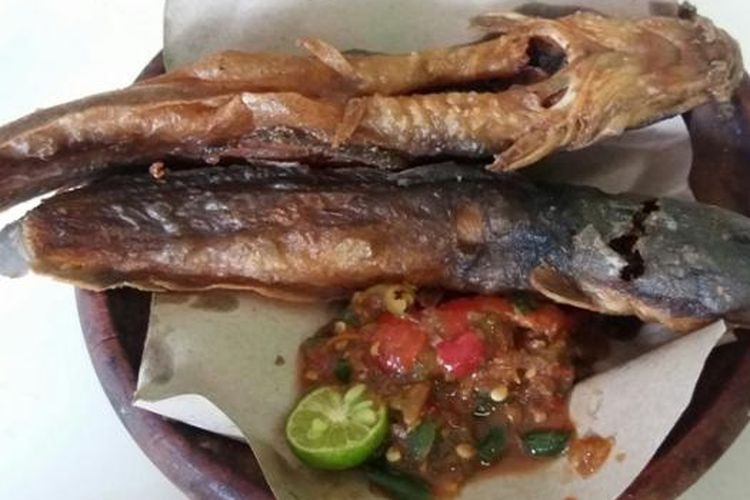pecel_lele: (21, 170, 744, 331), (4, 7, 736, 165)
